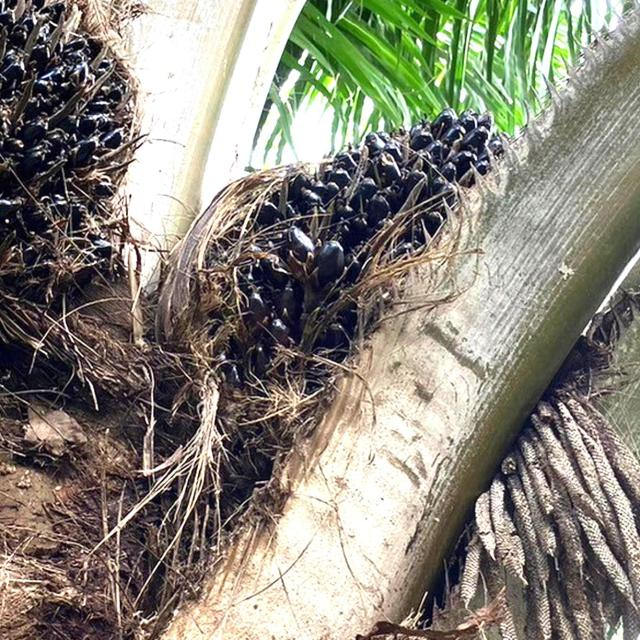unripe: (168, 112, 493, 375)
